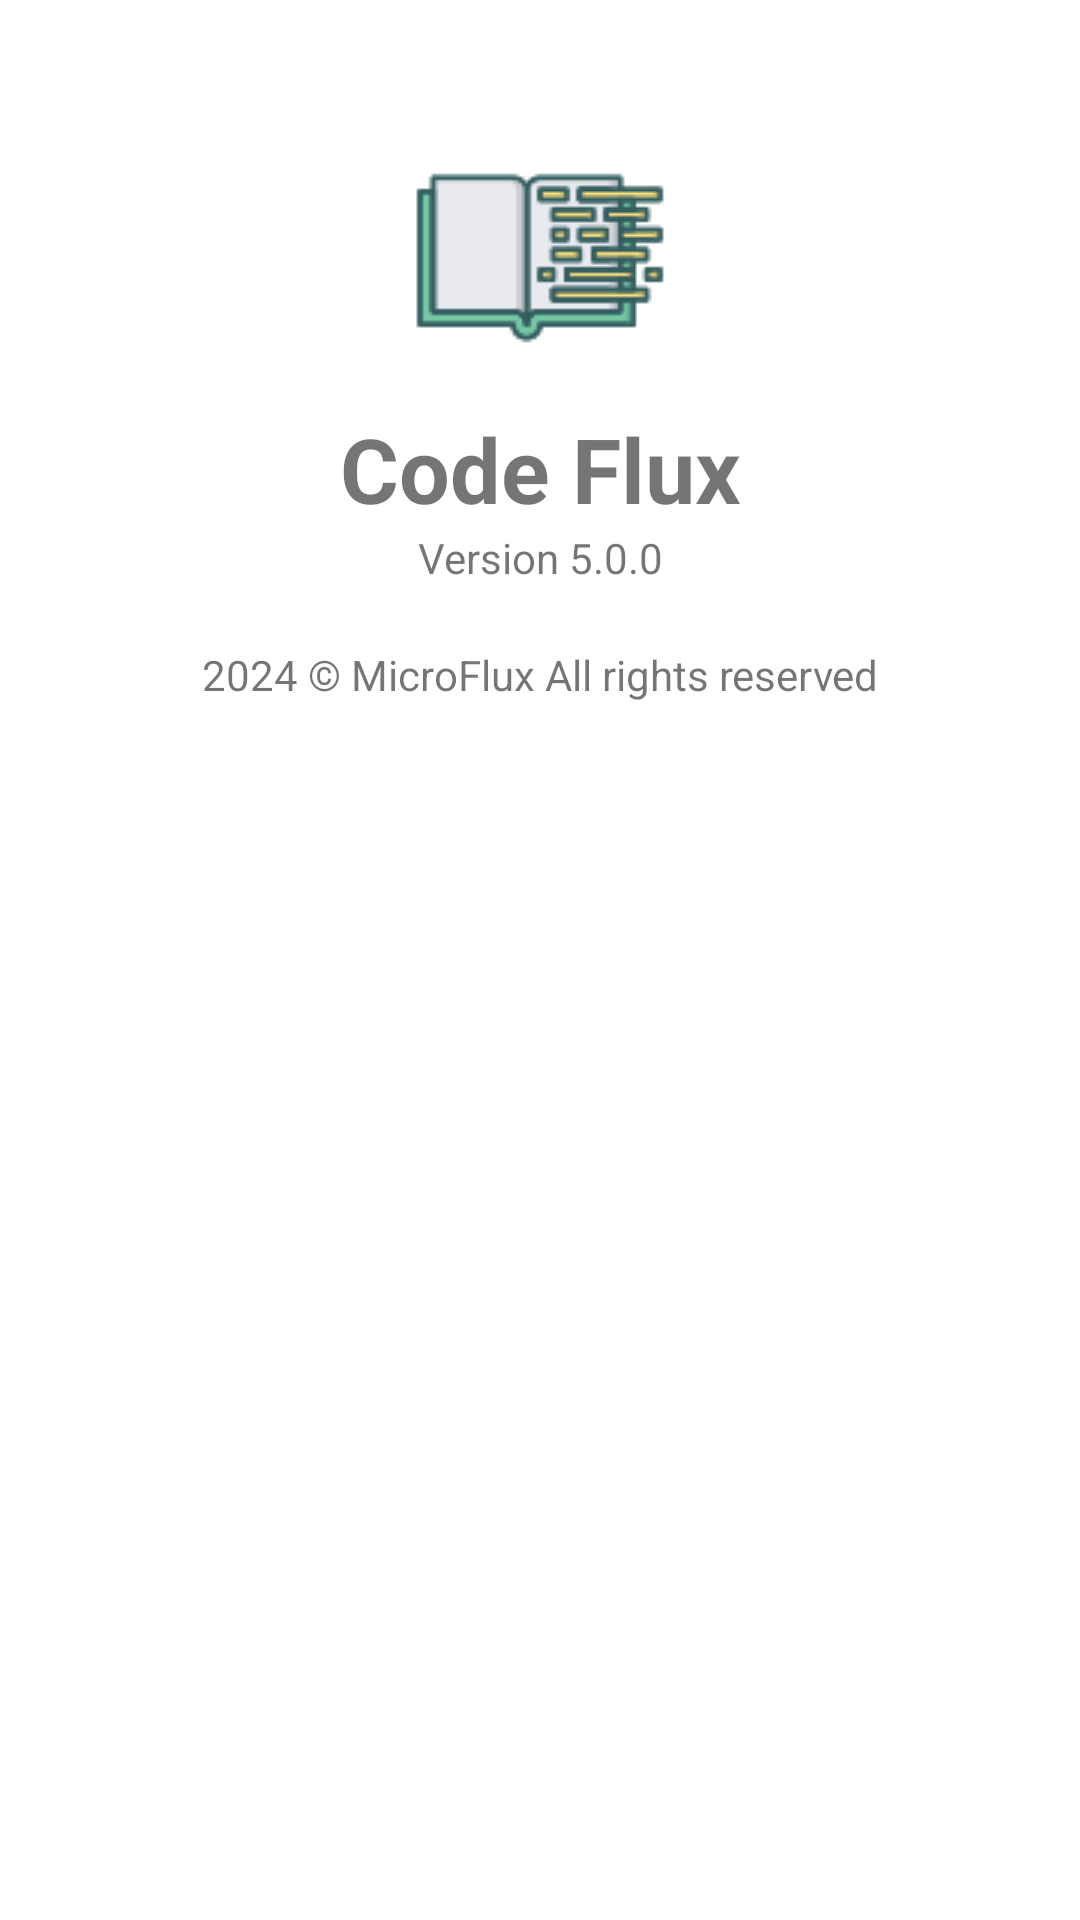

Named icons in this screenshot (1080×1920) and their centers, [x,y]:
bookonehundred: [540,258]
